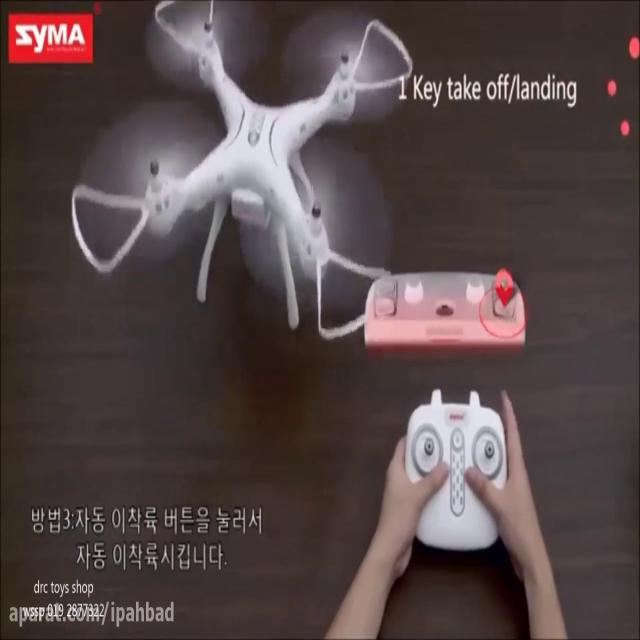drone: (68, 0, 411, 341)
